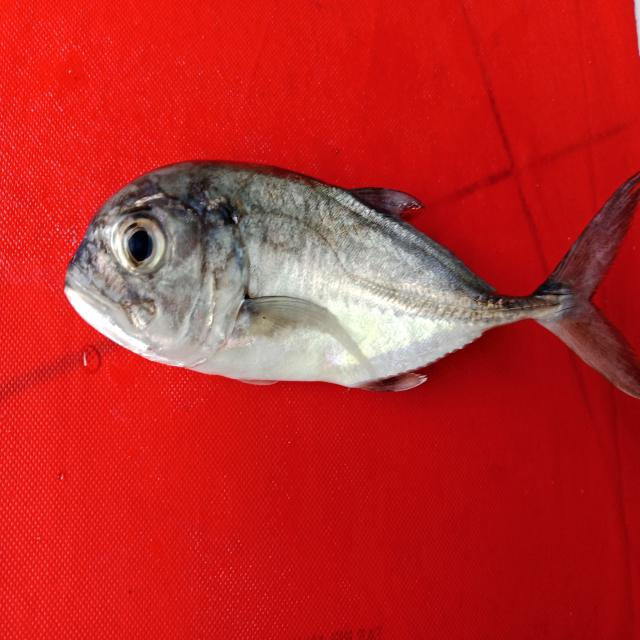ikan: (62, 157, 638, 399)
